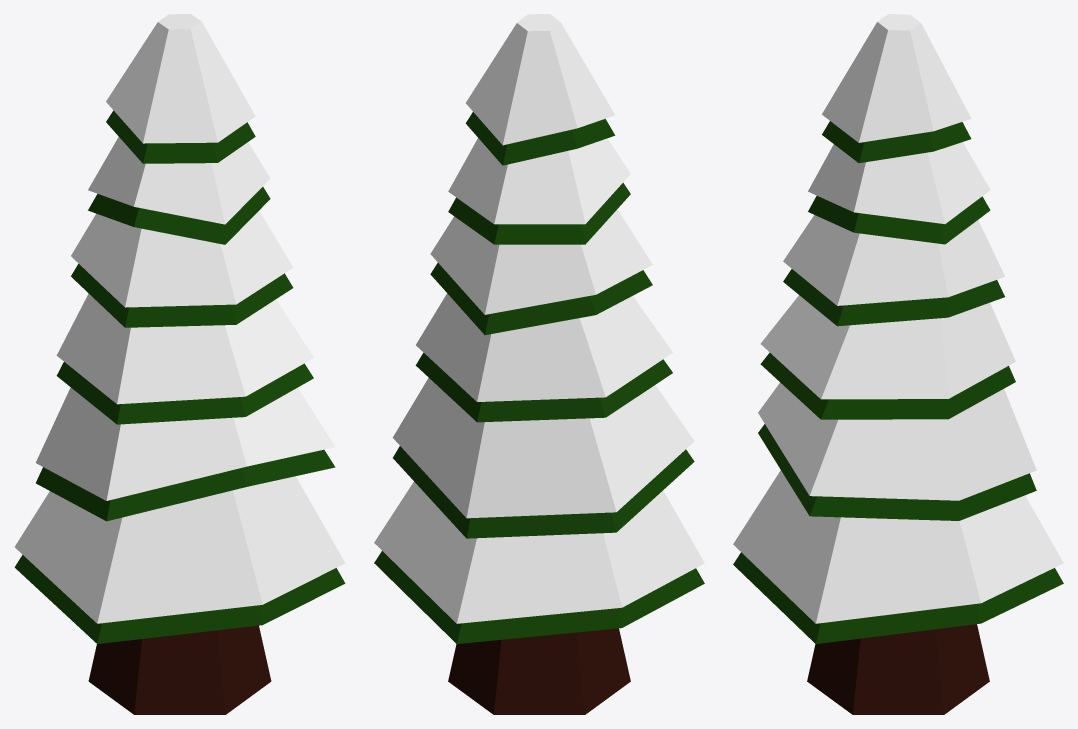
File: tree_big._snowy.obj
3 views of the same model, side by side, from view 1: azimuth 30°, elevation 25°; view 2: azimuth 150°, elevation 25°; view 3: azimuth 270°, elevation 25° (orthographic).
Visible parts, largest first — view 1: Cylinder.012, Cylinder.011, Cylinder.010, Cylinder.009, Cylinder, Cylinder.007, Cylinder.008, Cylinder.001, Cylinder.002, Cylinder.003, Cylinder.004, Cylinder.005 (+1 smaller); view 2: Cylinder.011, Cylinder.012, Cylinder.010, Cylinder.009, Cylinder, Cylinder.007, Cylinder.008, Cylinder.001, Cylinder.002, Cylinder.003, Cylinder.004, Cylinder.005 (+1 smaller); view 3: Cylinder.012, Cylinder.011, Cylinder.010, Cylinder.009, Cylinder, Cylinder.007, Cylinder.008, Cylinder.001, Cylinder.002, Cylinder.003, Cylinder.004, Cylinder.005 (+1 smaller).
Part boxes in pixels (x1,y1,x2,y2): Cylinder.012: [15, 476, 344, 623]; Cylinder.011: [35, 387, 335, 500]; Cylinder.010: [56, 293, 313, 404]; Cylinder.009: [71, 211, 293, 307]; Cylinder: [88, 625, 271, 714]; Cylinder.007: [106, 14, 255, 143]; Cylinder.008: [88, 137, 270, 224]; Cylinder.001: [14, 555, 345, 643]; Cylinder.002: [36, 449, 335, 521]; Cylinder.003: [56, 362, 313, 424]; Cylinder.004: [71, 263, 293, 327]; Cylinder.005: [88, 187, 270, 244]; Cylinder.011: [392, 377, 694, 518]; Cylinder.012: [374, 481, 704, 623]; Cylinder.010: [416, 293, 672, 401]; Cylinder.009: [430, 209, 652, 314]; Cylinder: [448, 628, 630, 714]; Cylinder.007: [466, 14, 614, 145]; Cylinder.008: [448, 138, 630, 224]; Cylinder.001: [374, 551, 704, 643]; Cylinder.002: [393, 446, 694, 538]; Cylinder.003: [415, 352, 672, 422]; Cylinder.004: [430, 263, 652, 334]; Cylinder.005: [448, 182, 630, 244]; Cylinder.012: [733, 470, 1063, 623]; Cylinder.011: [758, 382, 1036, 500]; Cylinder.010: [760, 295, 1015, 399]; Cylinder.009: [783, 215, 1004, 305]; Cylinder: [807, 624, 989, 714]; Cylinder.007: [822, 14, 971, 142]; Cylinder.008: [808, 142, 990, 223]; Cylinder.001: [733, 552, 1063, 643]; Cylinder.002: [758, 424, 1036, 520]; Cylinder.003: [760, 352, 1015, 419]; Cylinder.004: [783, 269, 1004, 326]; Cylinder.005: [808, 196, 990, 244].
Bounding box in the file's own units: 2.46 × 6.25 × 2.84.
